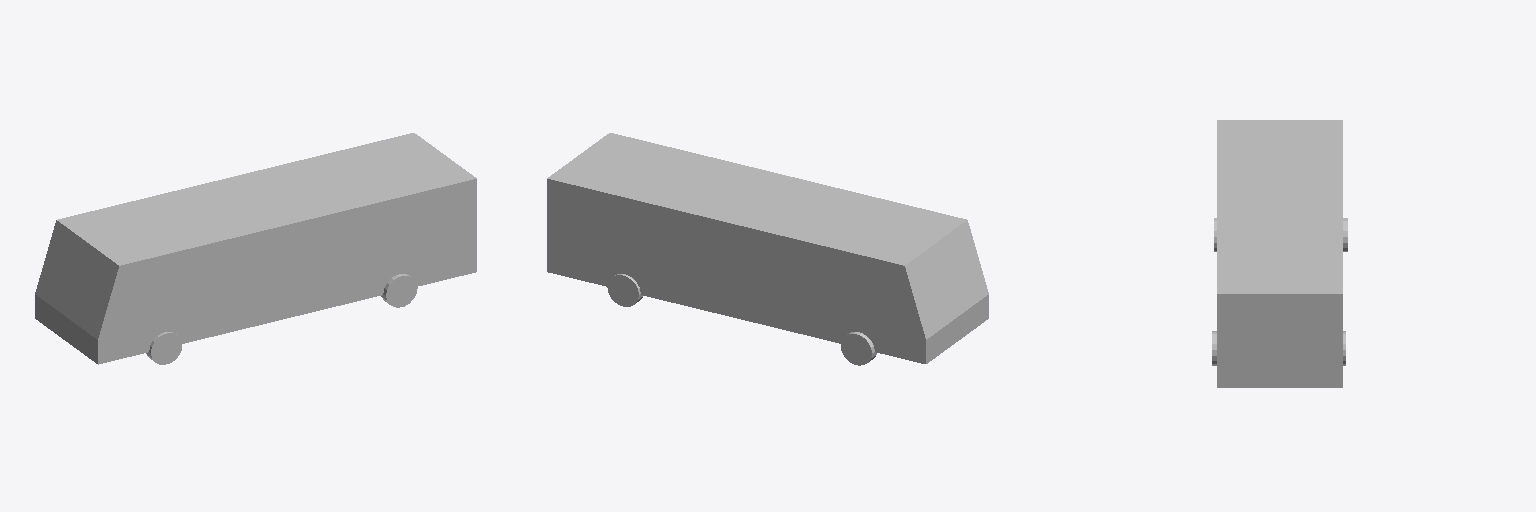
File: bus.obj
The picture shows the model from 3 angles: view 1: azimuth 30°, elevation 25°; view 2: azimuth 150°, elevation 25°; view 3: azimuth 270°, elevation 25°; orthographic projection.
Visible parts, largest first — view 1: polySurface103; view 2: polySurface103; view 3: polySurface103.
Boxes of the visible parts, box(x1,y1,x2,y2) form: polySurface103: box(35, 133, 476, 364); polySurface103: box(547, 133, 988, 365); polySurface103: box(1212, 120, 1347, 387).
Bounding box in the file's own units: 9.03 × 2.47 × 2.82.